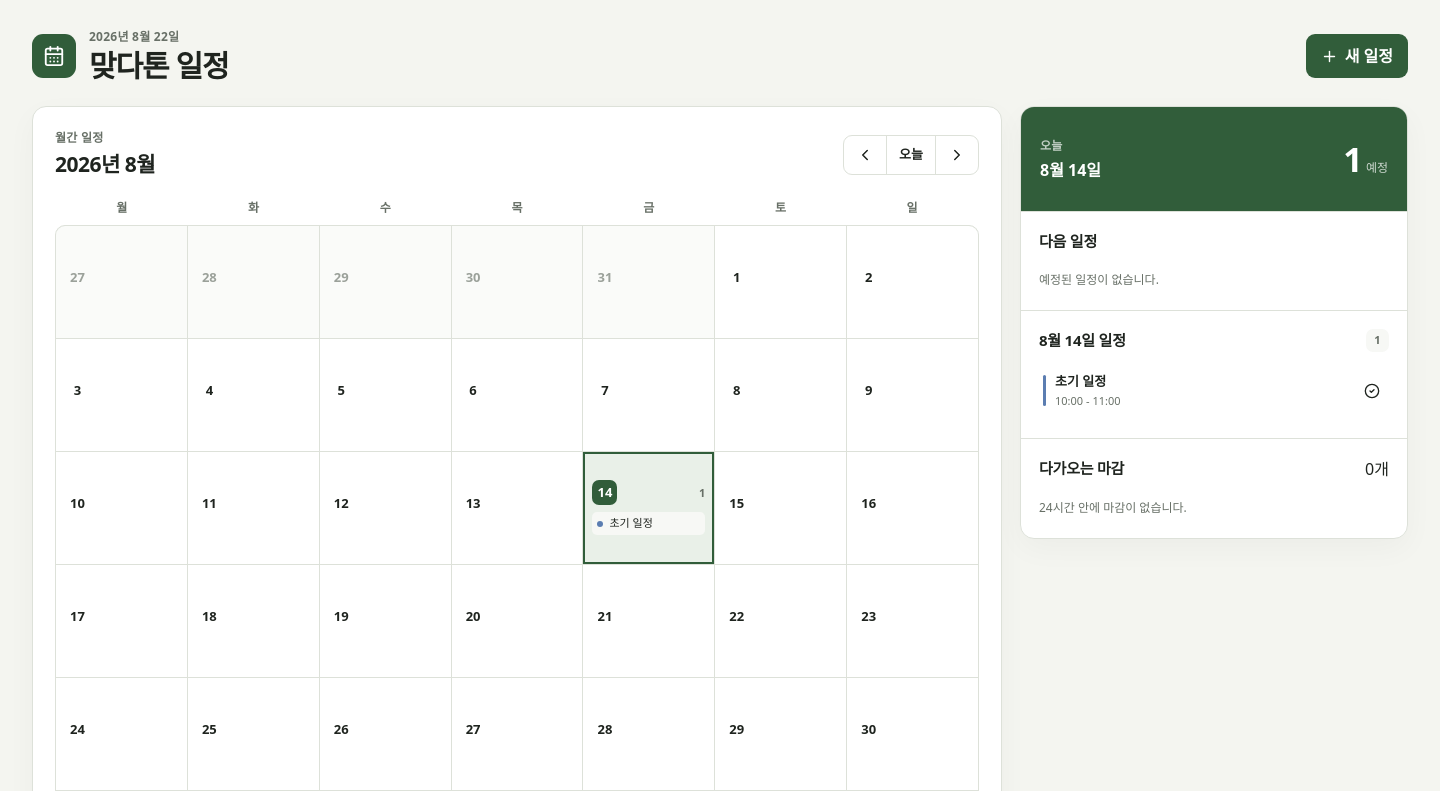
Test case: App › 일정을 수정하고 완료 상태로 변경한다
Click the text "초기 일정" below "예정된 일정이 없습니다.".
click(1081, 380)  # box [1055,372,1106,390]
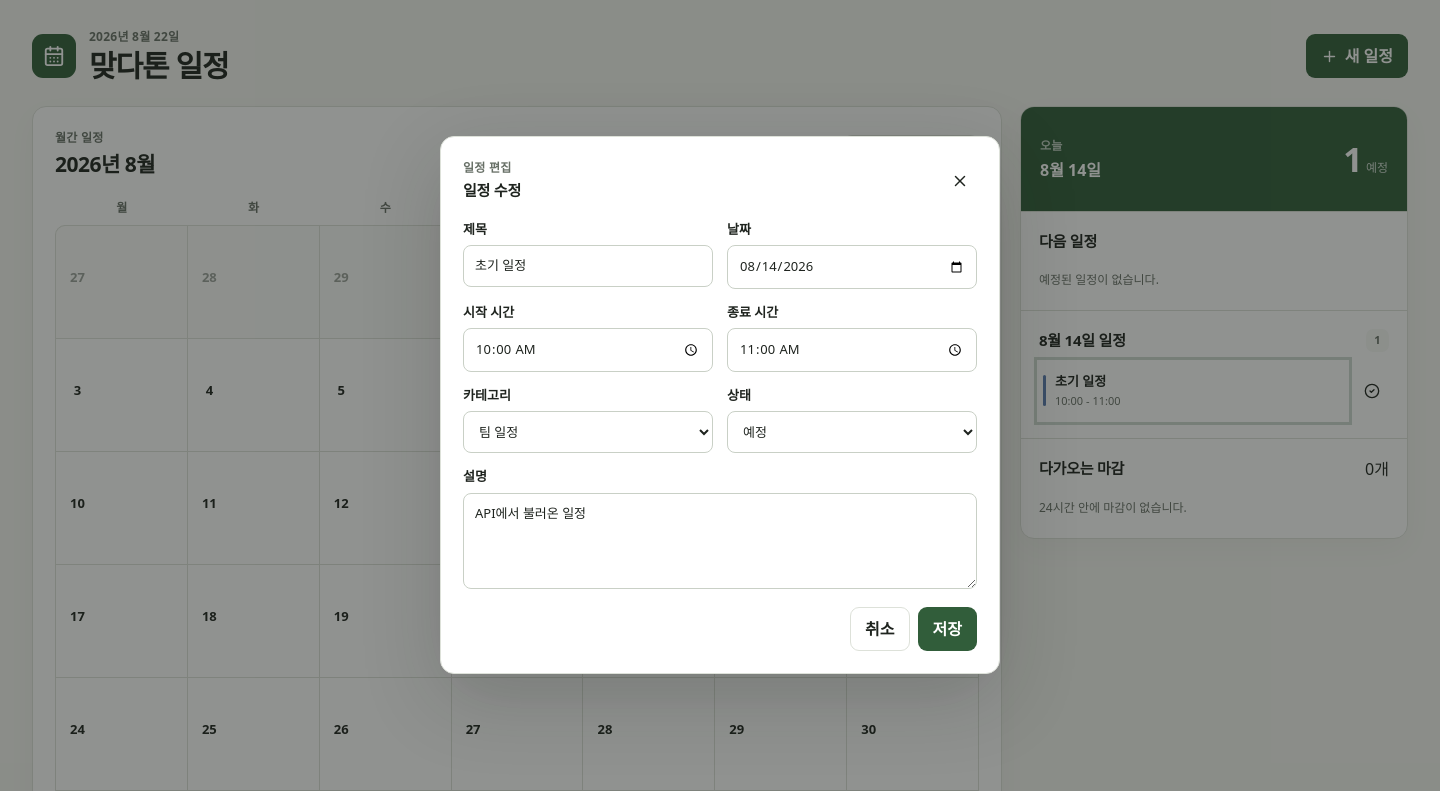
Replace the text in the field labelled "제목" with "수정된 일정" at coordinates (588, 266), box [463,245,713,287]
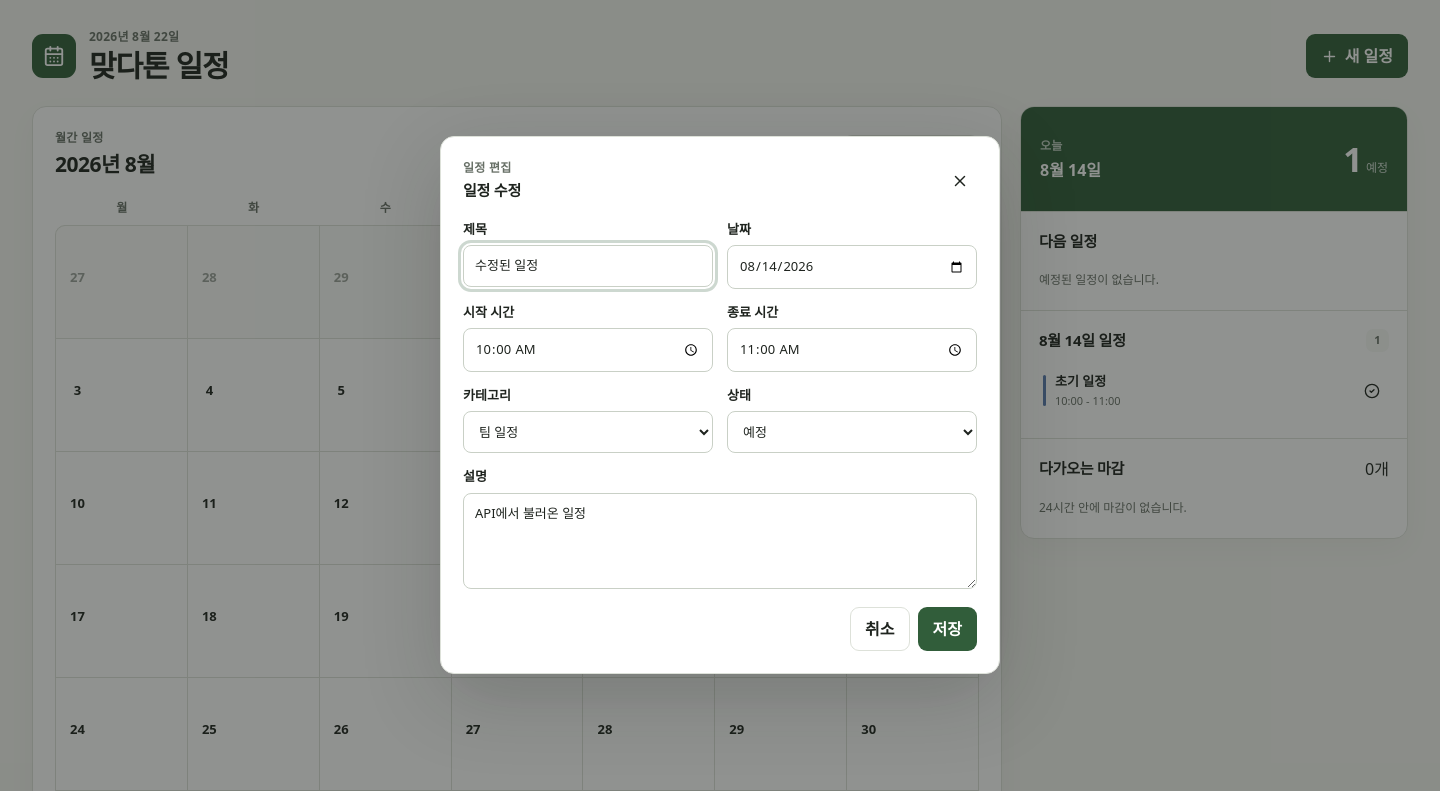
Click the button "저장".
click(947, 629)  # box [918,607,977,651]
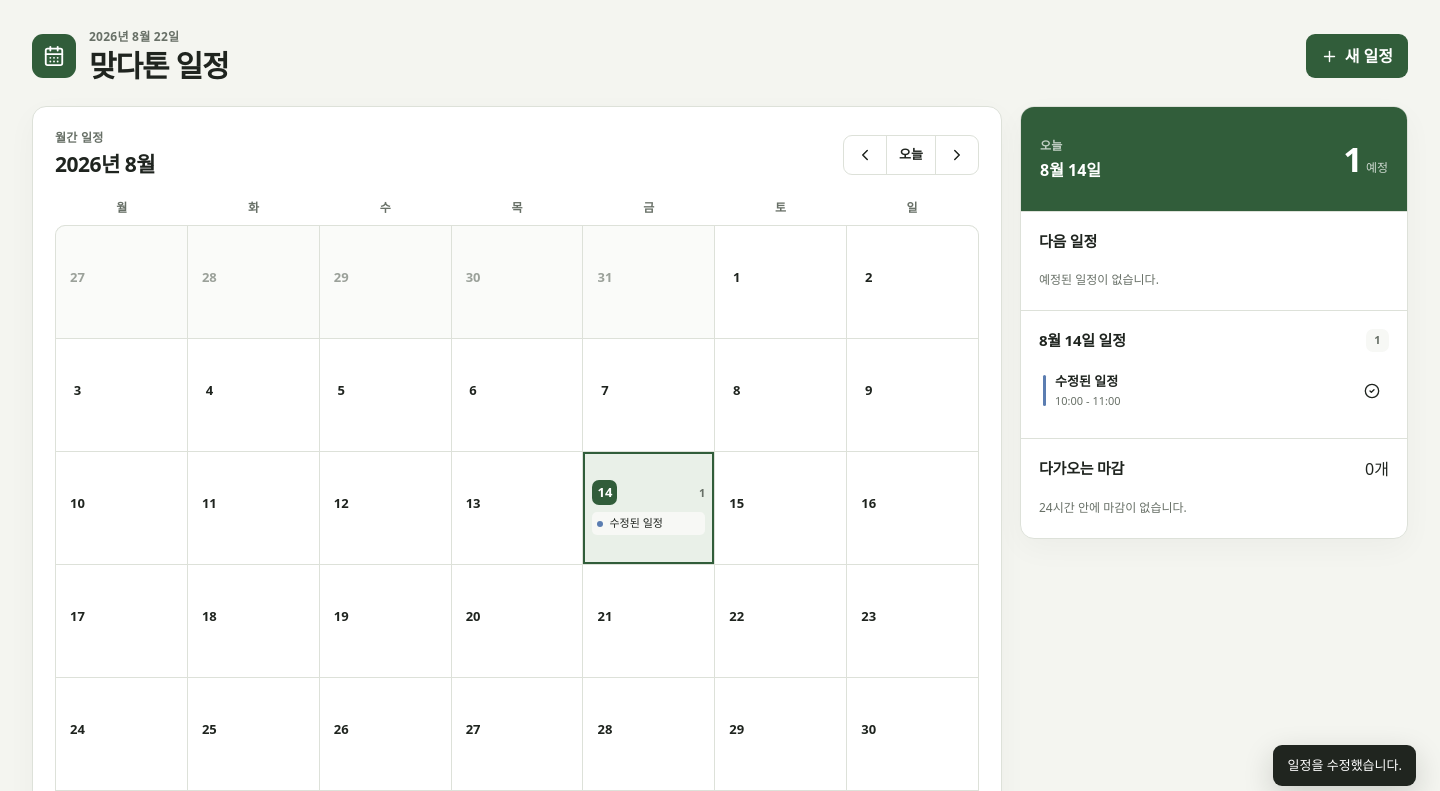
Result: the text "일정을 수정했습니다." is shown at [1274,744,1416,786]
Click the button named "수정된 일정 상태 변경".
click(1372, 390)  # box [1355,374,1389,408]
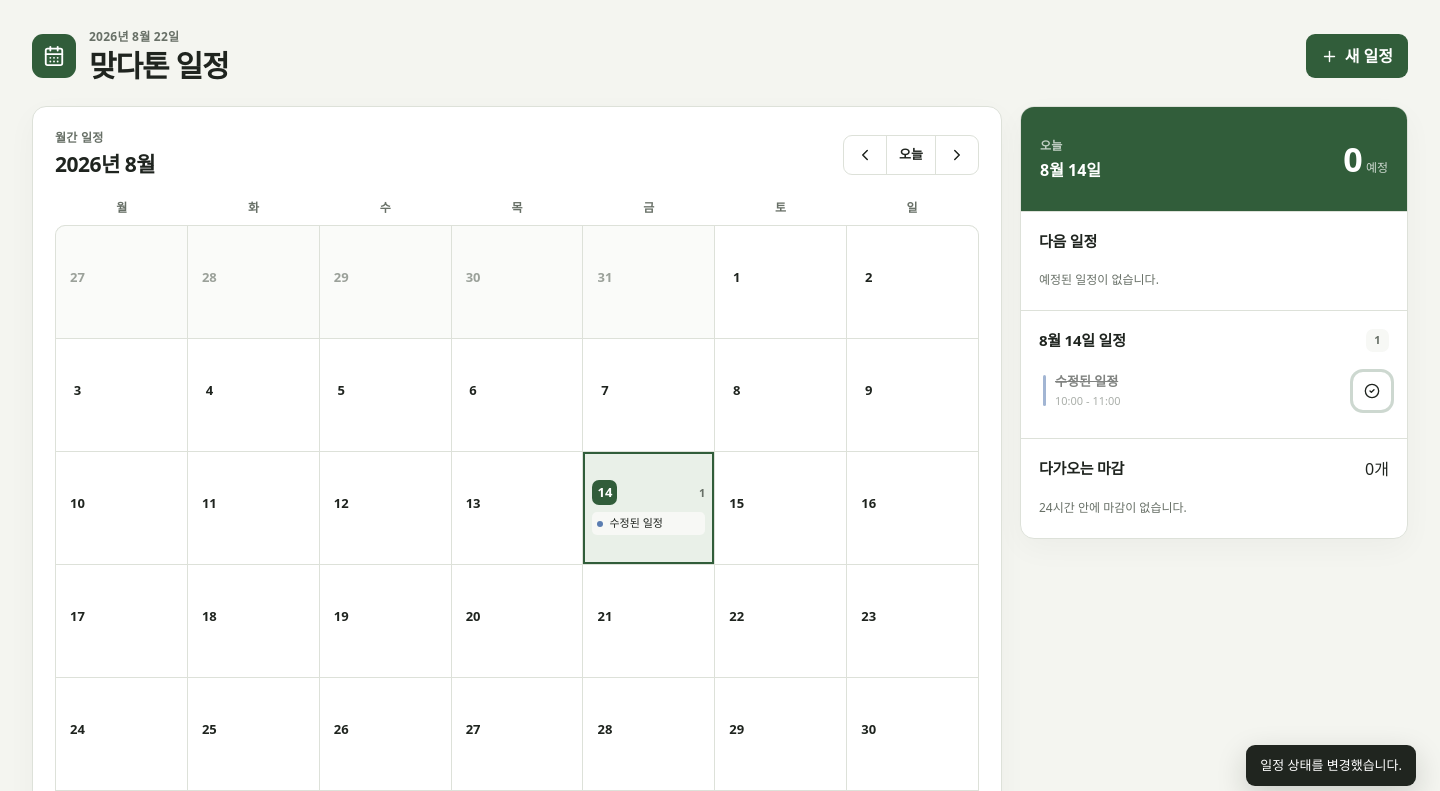
Result: the text "일정 상태를 변경했습니다." is shown at [1246,744,1416,786]
